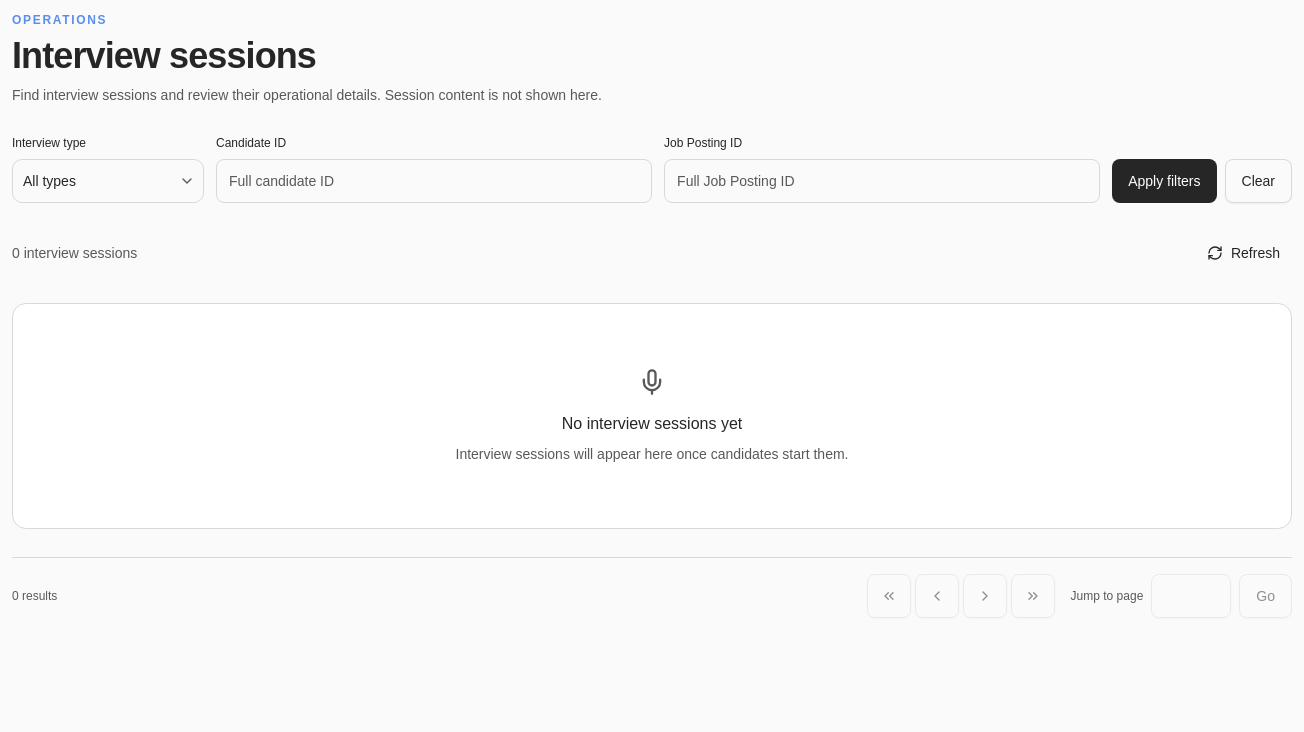
AdminInterviewSessions › shows the empty state, and the filtered empty state after a filter
Expected: the heading "No interview sessions yet" is shown, x1=562 y1=415 x2=742 y2=432
Type "22222222-2222-4222-8222-222222222222" into the field labelled "Candidate ID".
click(434, 181); type("22222222-2222-4222-8222-222222222222")  # box x1=216 y1=159 x2=652 y2=203
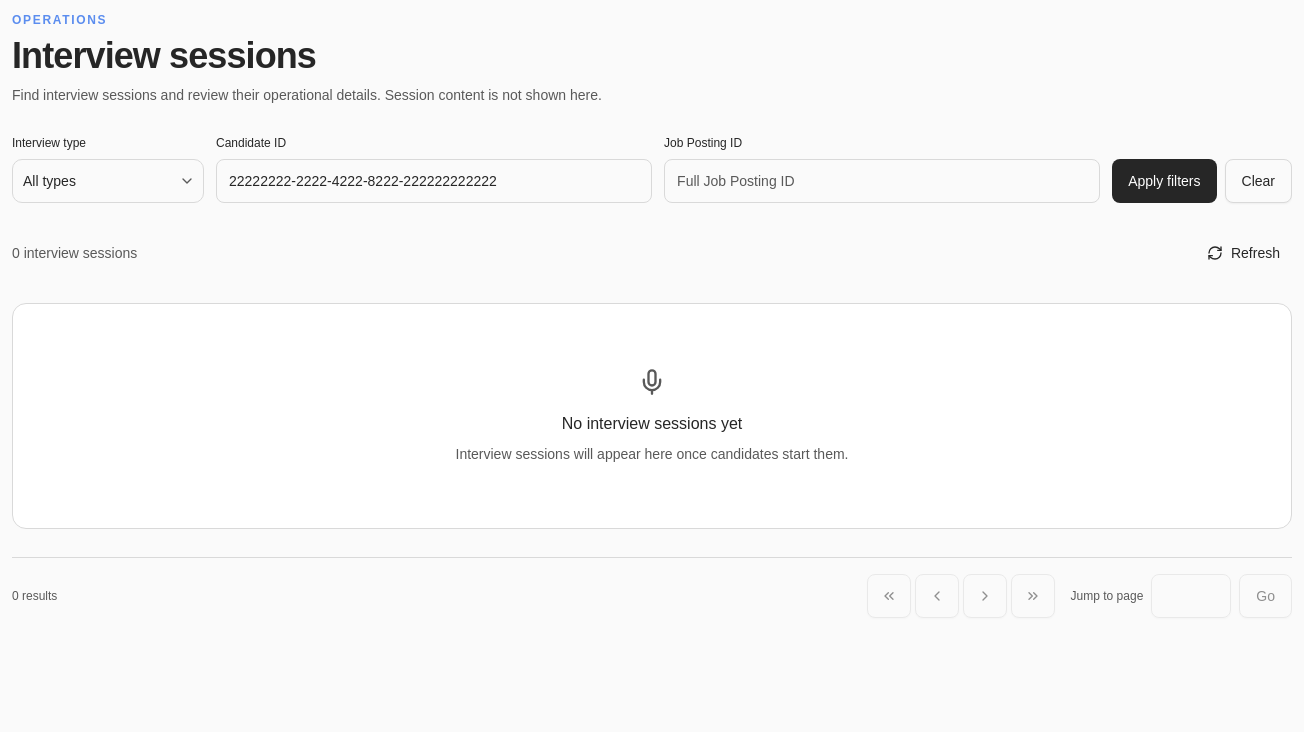
Click the button "Apply filters".
click(1164, 181)  # box x1=1112 y1=159 x2=1217 y2=203
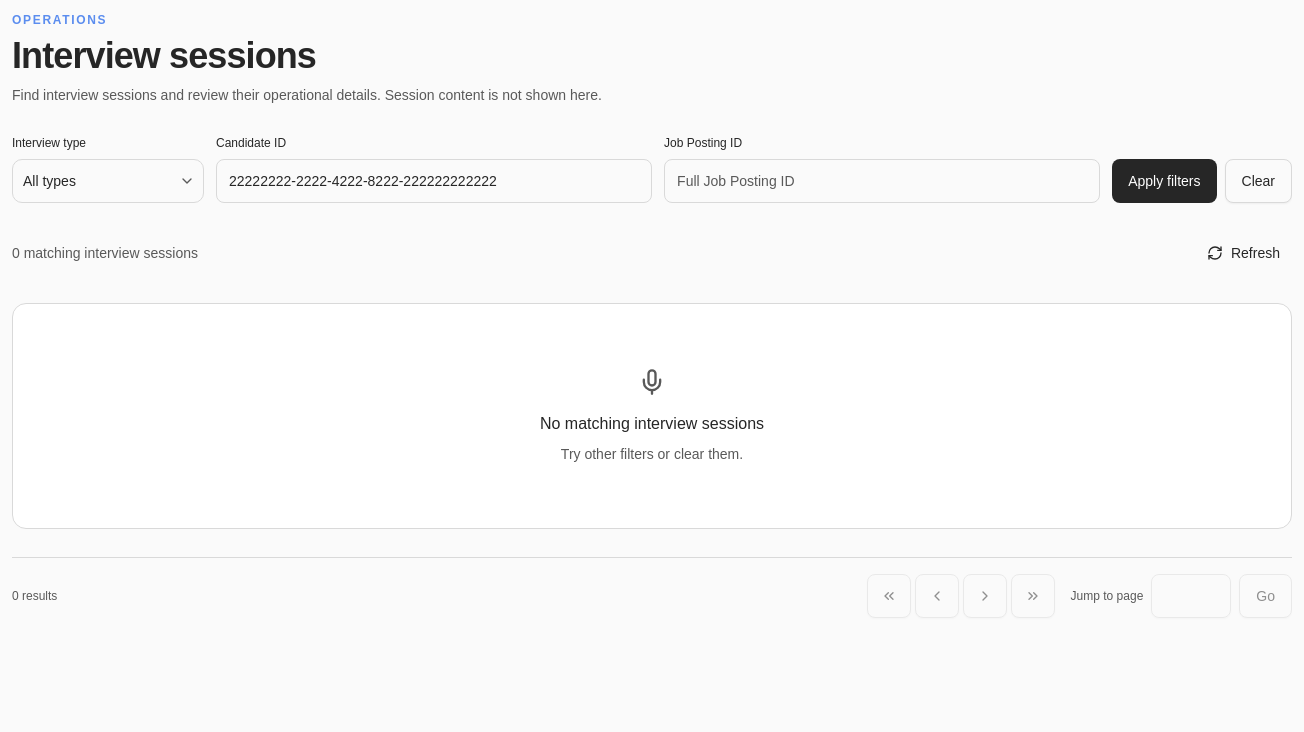
Expected: the heading "No matching interview sessions" is shown, x1=540 y1=415 x2=764 y2=432
